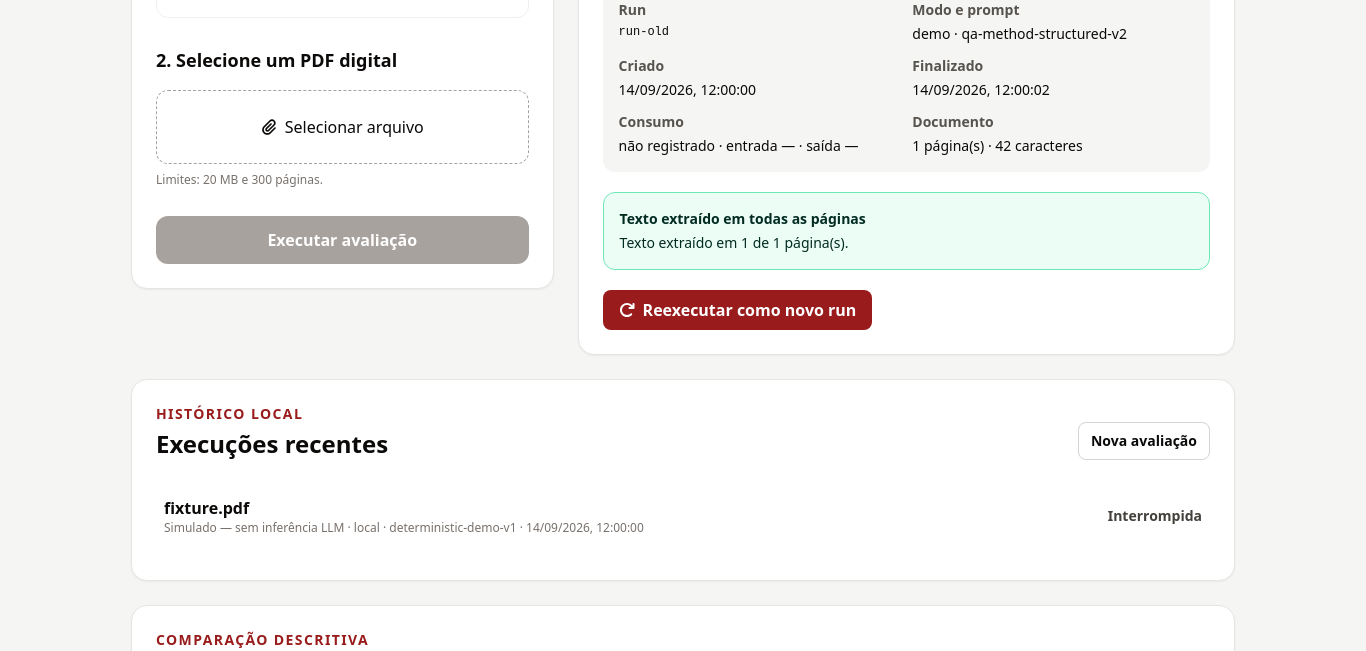
Scenario: Evaluation › reexecuta um run interrompido somente como uma nova solicitação
(page scrolled)
Click the button "Reexecutar como novo run": coordinates (738, 310) [603, 290, 872, 330]
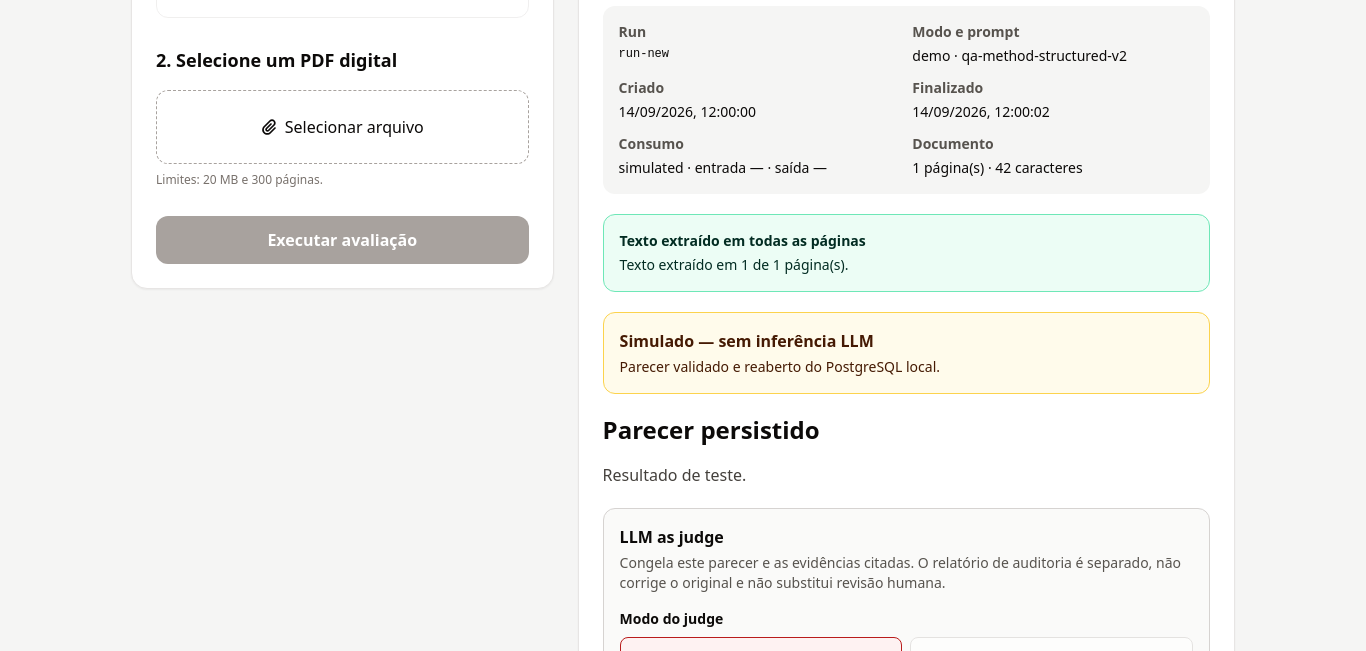
Result: the heading "Parecer persistido" is shown at [603, 413, 820, 446]
Result: the text "run-new" is shown at [619, 47, 669, 61]
